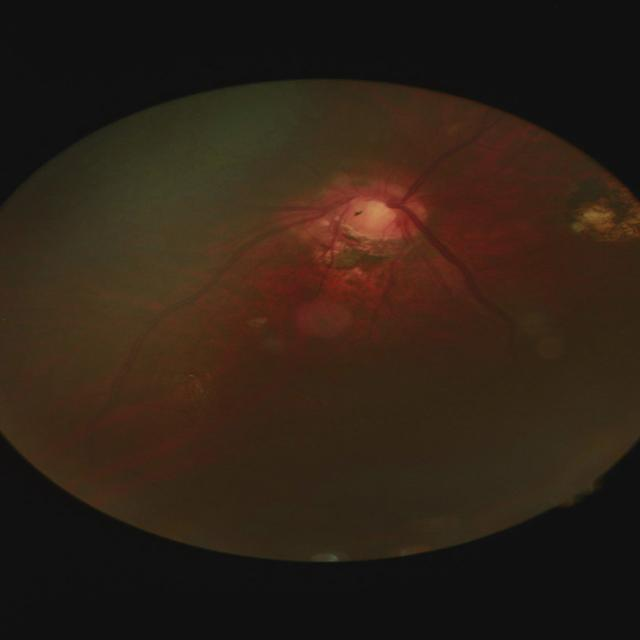cup: (339, 196, 402, 232)
disk: (329, 178, 426, 242)
